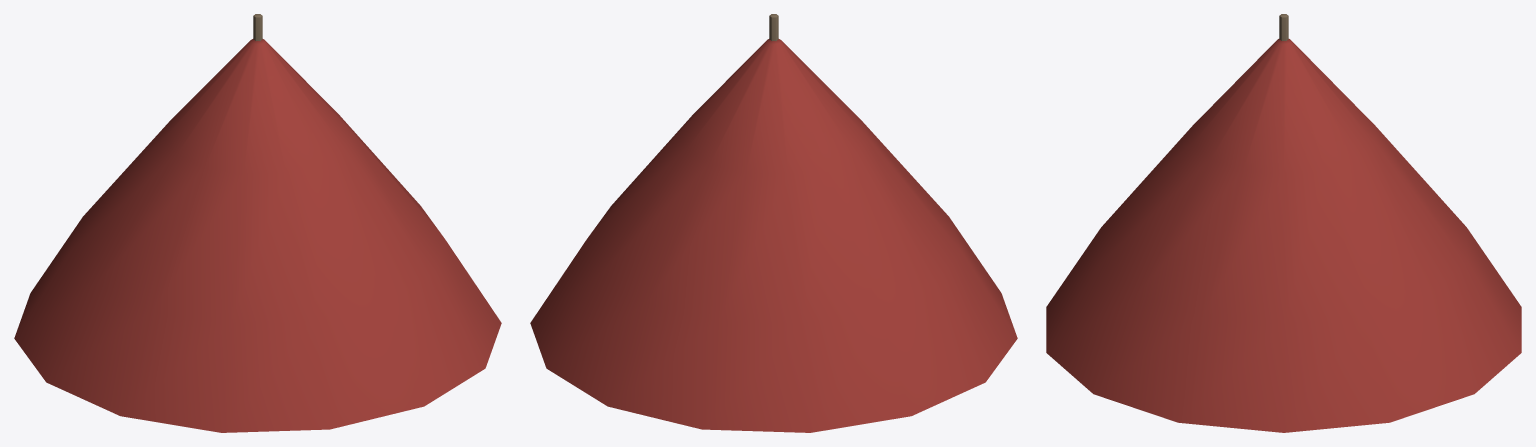
Rendered from tent.glb.
3 renders of one model, left to right at view 1: azimuth 30°, elevation 25°; view 2: azimuth 150°, elevation 25°; view 3: azimuth 270°, elevation 25°, orthographic.
Parts seen in each view (by area): view 1: boat_tent; view 2: boat_tent; view 3: boat_tent.
Part boxes in pixels (x1,y1,x2,y2): boat_tent: (14, 39, 501, 432); boat_tent: (530, 39, 1017, 432); boat_tent: (1046, 39, 1521, 432).
Bounding box in the file's own units: 5.2 × 3.7 × 5.07.
